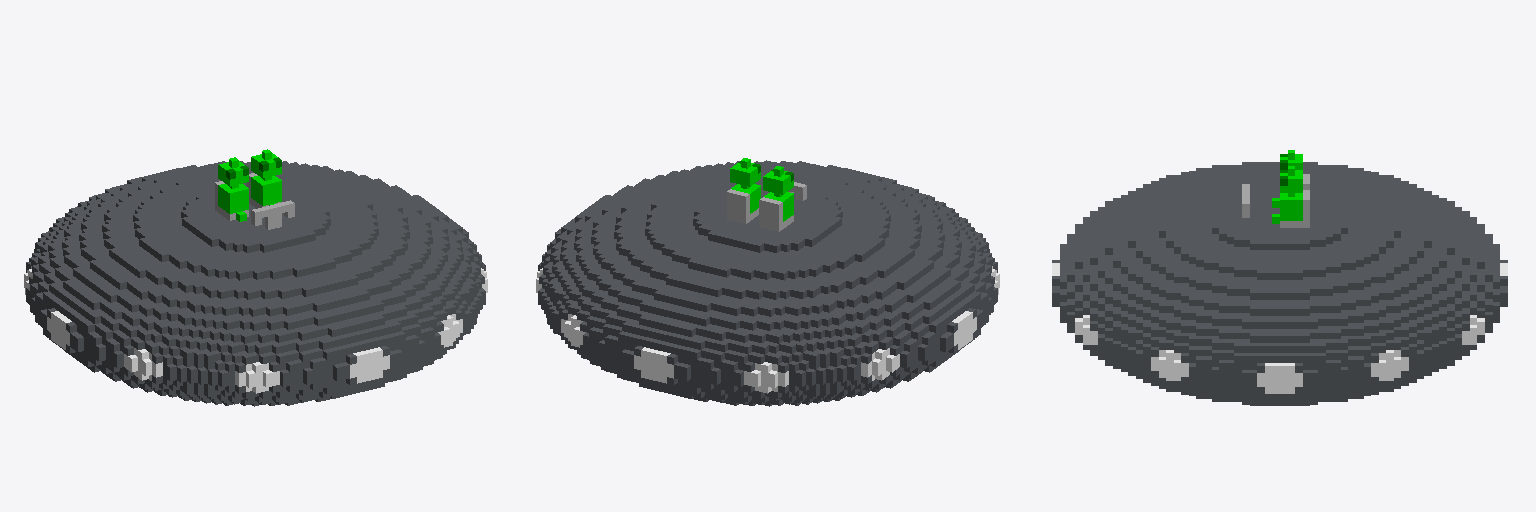
3 views of the same model, side by side, from view 1: azimuth 30°, elevation 25°; view 2: azimuth 150°, elevation 25°; view 3: azimuth 270°, elevation 25° (orthographic).
Visible parts, largest first — view 1: object 1; view 2: object 1; view 3: object 1.
Boxes of the visible parts, x1=… form: object 1: x1=24, y1=149, x2=487, y2=406; object 1: x1=536, y1=158, x2=999, y2=406; object 1: x1=1052, y1=150, x2=1507, y2=405.
Bounding box in the file's own units: 6 × 2.8 × 6.
1 materials, 1 textured.